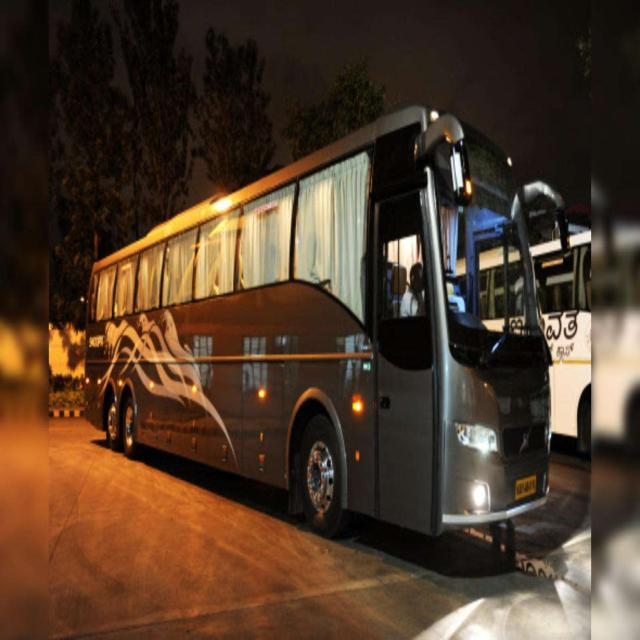bus: (85, 107, 564, 541)
